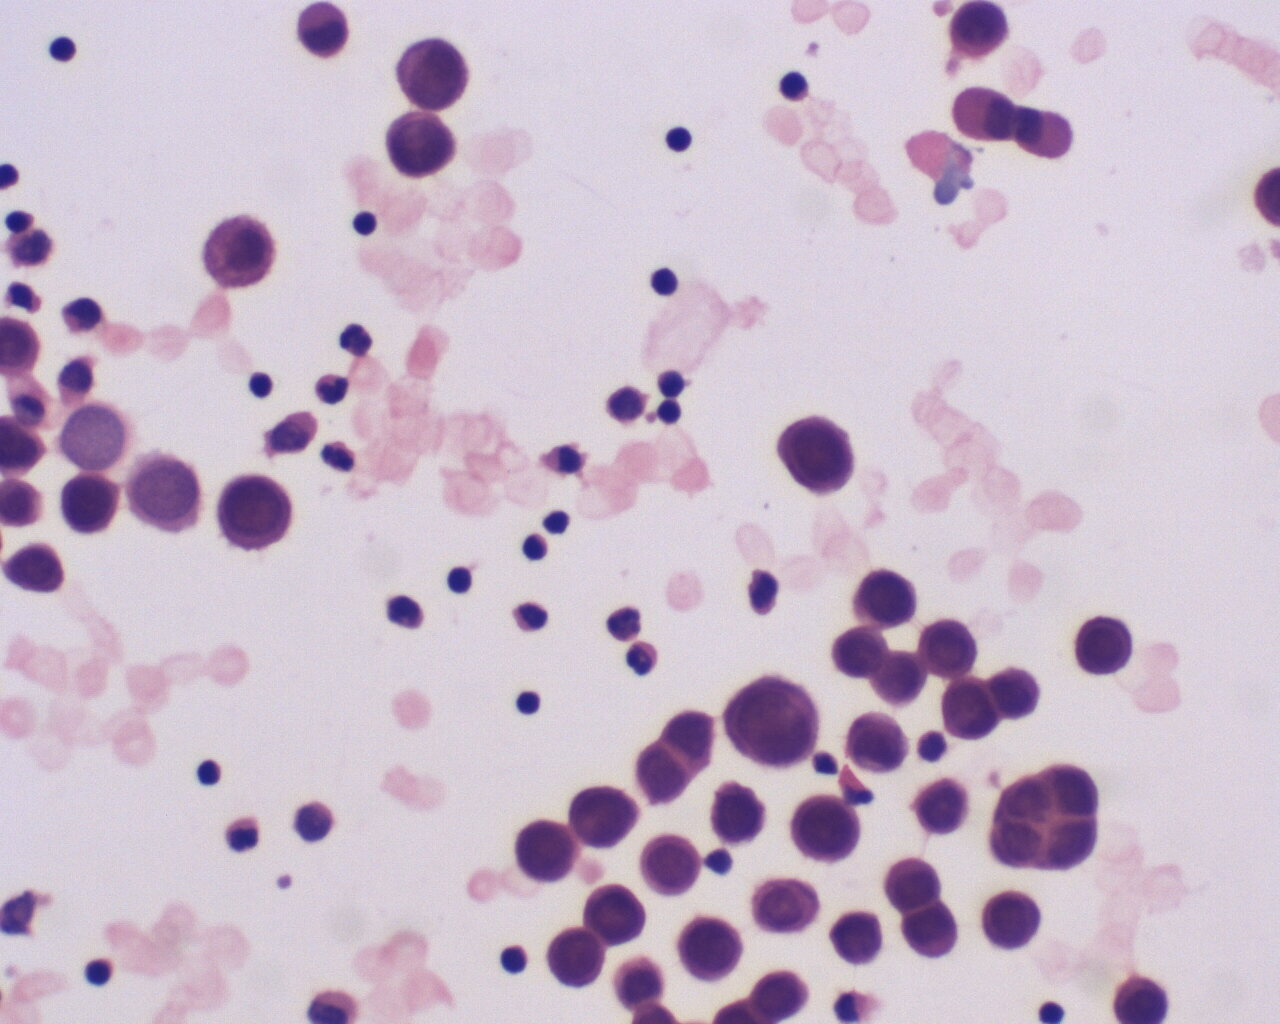ab: (988, 760, 1107, 874), (717, 673, 820, 773), (771, 414, 865, 503), (123, 450, 208, 544), (217, 470, 298, 555), (393, 37, 469, 114), (788, 794, 868, 867), (975, 885, 1053, 958), (379, 109, 459, 180), (571, 779, 647, 853), (677, 912, 750, 987), (938, 1, 1019, 65), (515, 816, 585, 889), (537, 924, 609, 994), (839, 706, 911, 775), (635, 834, 709, 899), (56, 469, 127, 534), (706, 778, 771, 850), (847, 566, 920, 630), (937, 676, 1003, 745), (583, 880, 650, 945), (1074, 615, 1139, 680), (920, 616, 986, 678)
lymph: (193, 750, 236, 795), (441, 562, 482, 605), (77, 952, 120, 990), (515, 680, 552, 724), (662, 117, 698, 159), (44, 32, 84, 69), (644, 261, 682, 297)
meso: (199, 212, 281, 300)
neutro: (220, 812, 261, 863), (321, 436, 363, 476), (313, 368, 354, 409), (623, 638, 665, 678)
